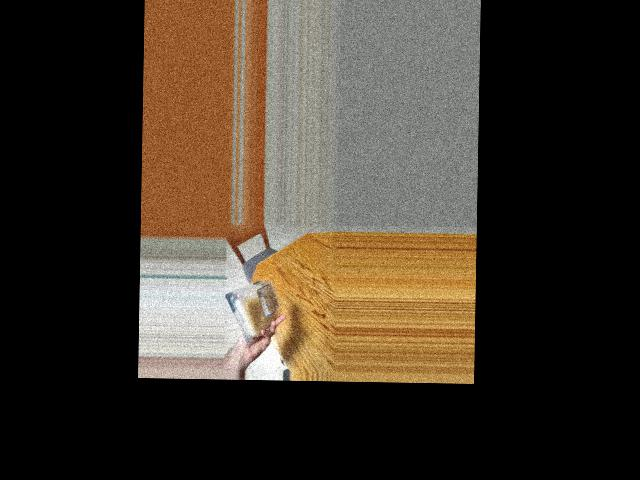cheese: (233, 279, 275, 338)
